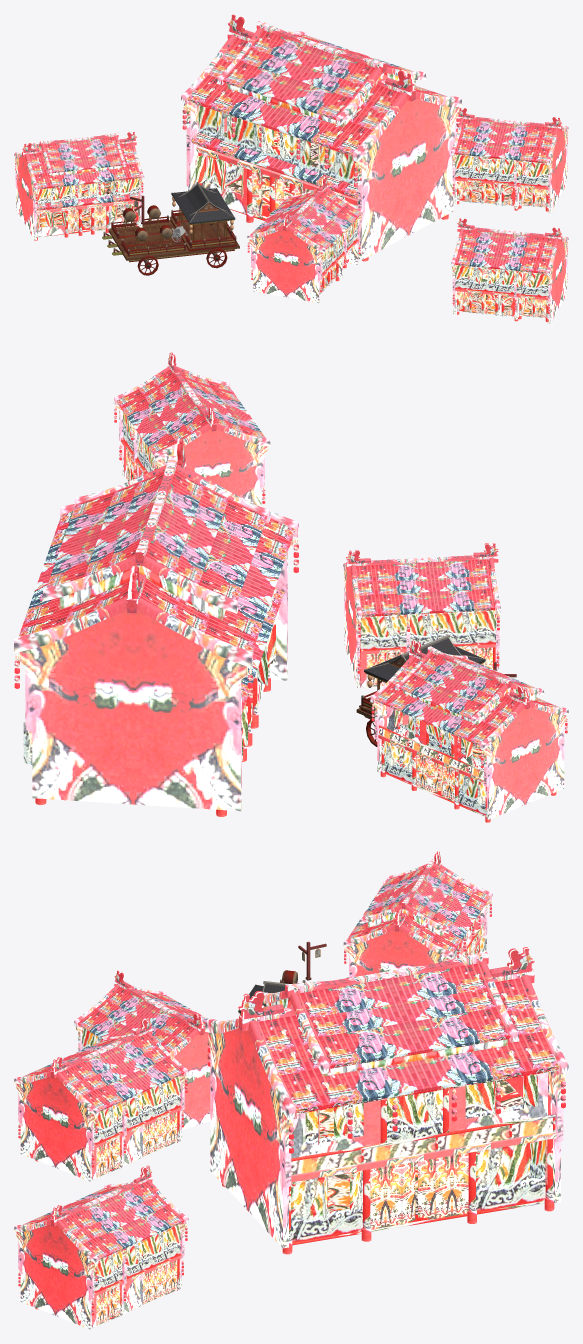
The picture shows the model from 3 angles, top to bottom: view 1: azimuth 30°, elevation 25°; view 2: azimuth 150°, elevation 25°; view 3: azimuth 270°, elevation 25°; orthographic projection. The views are drawn at different scales.
Parts seen in each view (by area): view 1: Buildings_thw_shop01 (×2), Buildings_thw_shop03_01 (×2), Buildings_thw_shop03, CH_huache; view 2: Buildings_thw_shop01 (×2), Buildings_thw_shop03, Buildings_thw_shop03_01, CH_huache; view 3: Buildings_thw_shop01 (×2), Buildings_thw_shop03_01 (×2), Buildings_thw_shop03, CH_huache.
Part boxes in pixels (x1,y1,x2,y2): Buildings_thw_shop01 (×2): (14, 14, 462, 261); Buildings_thw_shop03_01 (×2): (451, 107, 568, 323); Buildings_thw_shop03: (247, 177, 364, 302); CH_huache: (102, 182, 239, 275); Buildings_thw_shop01 (×2): (14, 438, 568, 822); Buildings_thw_shop03: (343, 543, 500, 687); Buildings_thw_shop03_01: (113, 352, 270, 506); CH_huache: (356, 634, 485, 746); Buildings_thw_shop01 (×2): (205, 851, 568, 1254); Buildings_thw_shop03_01 (×2): (14, 1017, 188, 1329); Buildings_thw_shop03: (74, 970, 210, 1130); CH_huache: (238, 970, 348, 1015).
Bounding box in the file's own units: 93.01 × 43.08 × 78.34.
